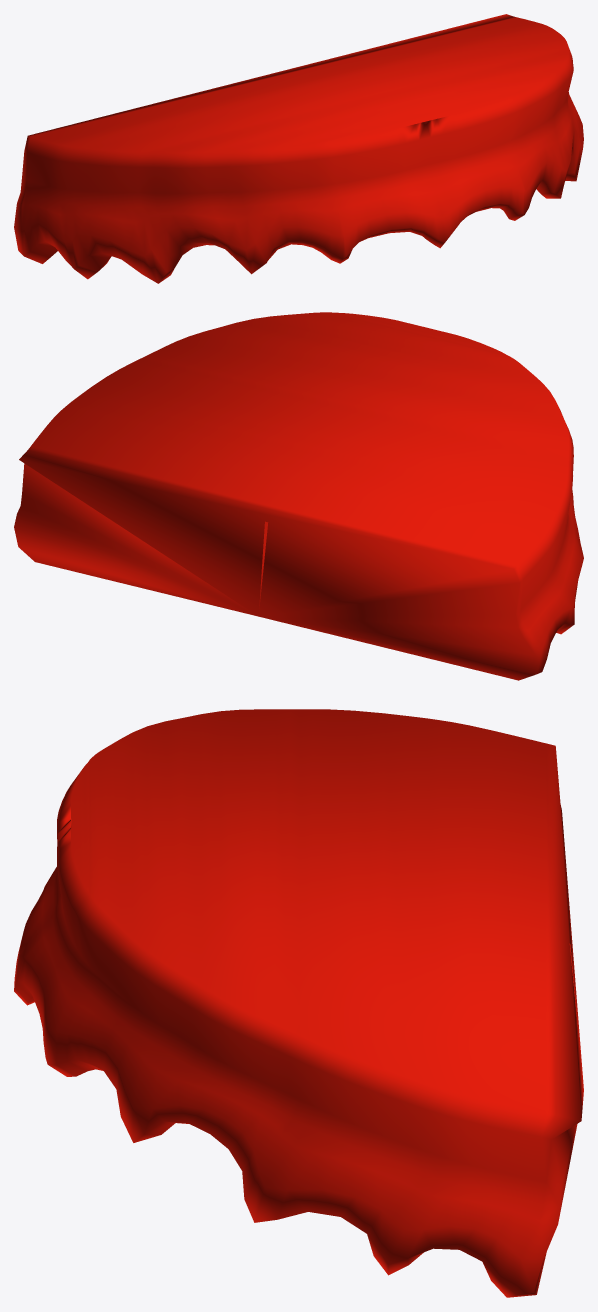
3 renders of one model, top to bottom at view 1: azimuth 30°, elevation 25°; view 2: azimuth 150°, elevation 25°; view 3: azimuth 270°, elevation 25°, orthographic. The views are drawn at different scales.
Parts seen in each view (by area): view 1: Caine.Denture.006; view 2: Caine.Denture.006; view 3: Caine.Denture.006.
Part boxes in pixels (<box>): Caine.Denture.006: <box>14,14,583,283</box>; Caine.Denture.006: <box>14,312,583,680</box>; Caine.Denture.006: <box>14,709,583,1297</box>.
Bounding box in the file's own units: 0.4587 × 0.156 × 0.2784.
